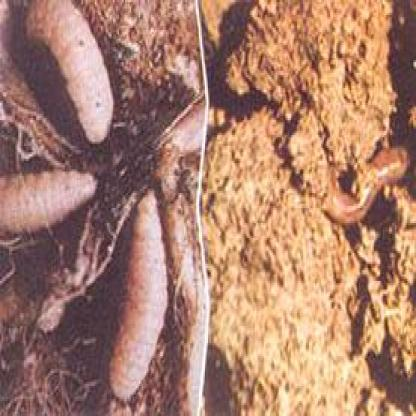whorl-maggot: (26, 0, 116, 144), (108, 193, 169, 403), (0, 172, 97, 232)
